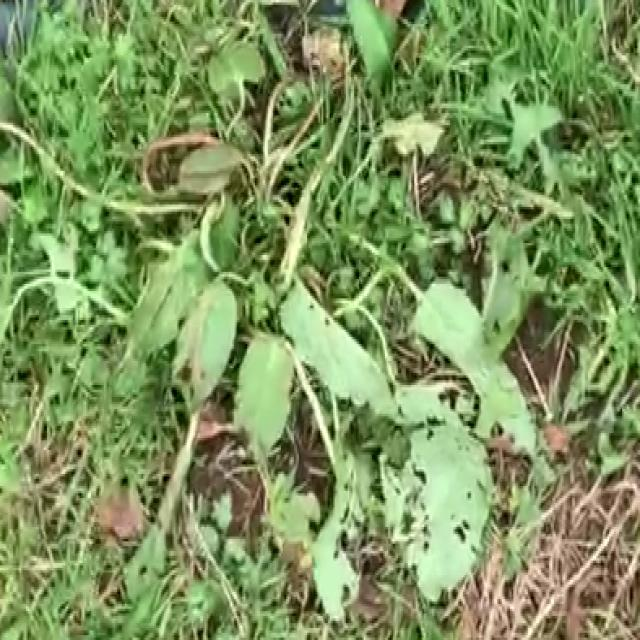organic waste: (122, 19, 560, 630)
